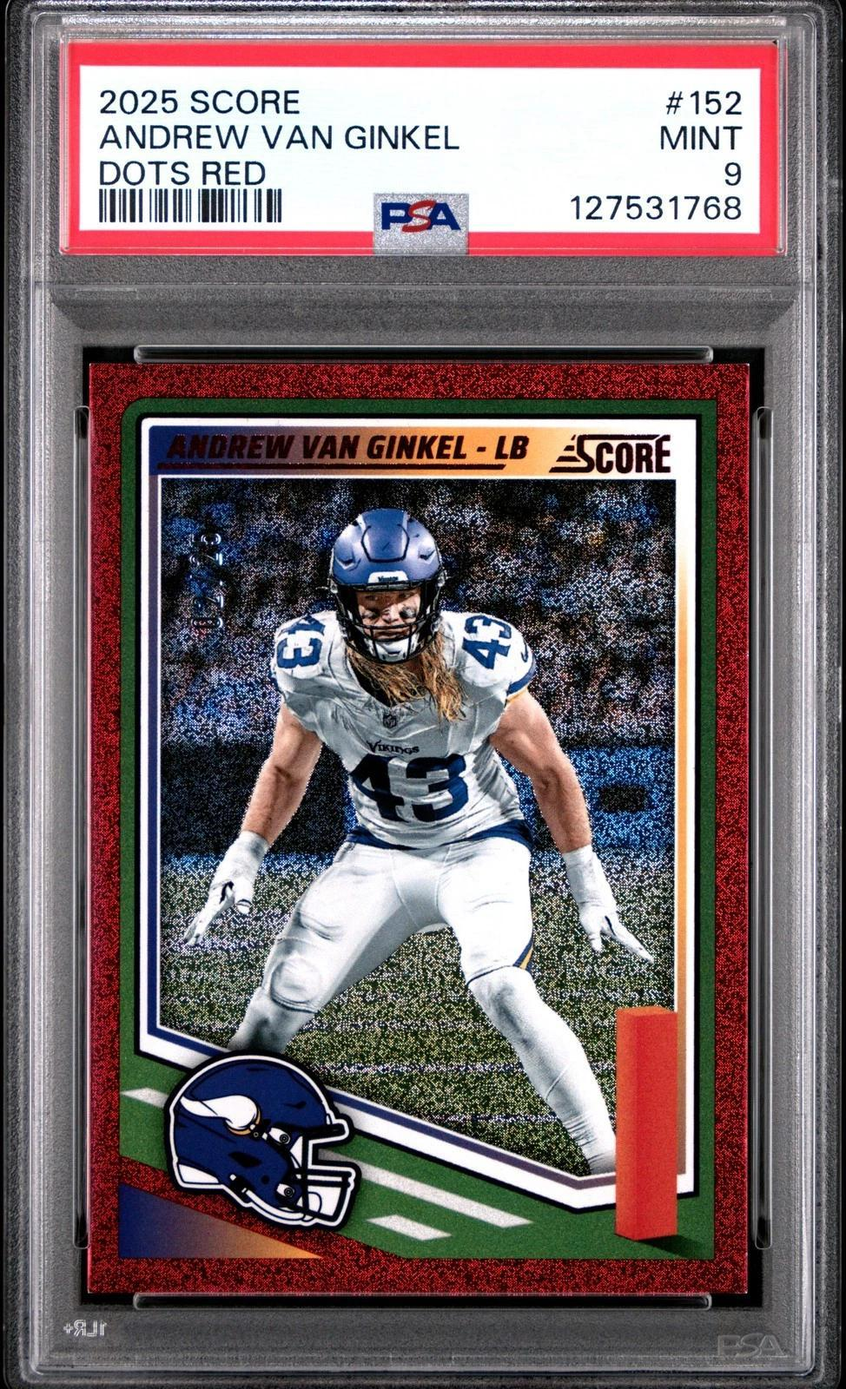card-2UtV: (86, 361, 751, 1295)
